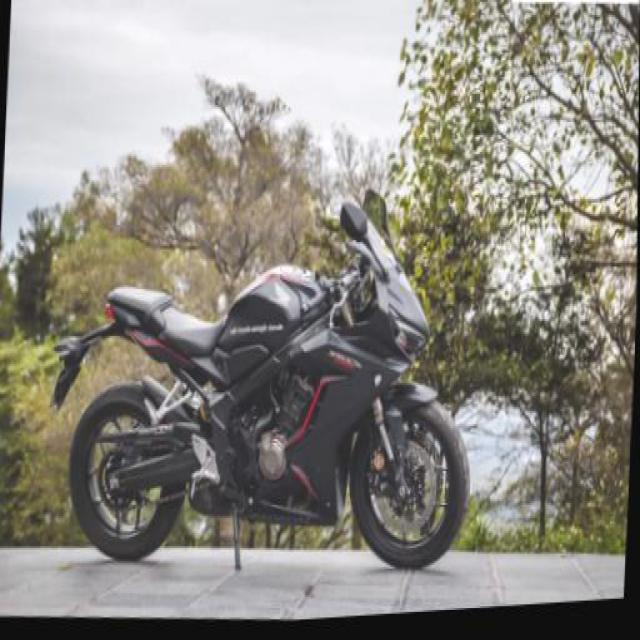CBR650R: (64, 176, 480, 600)
